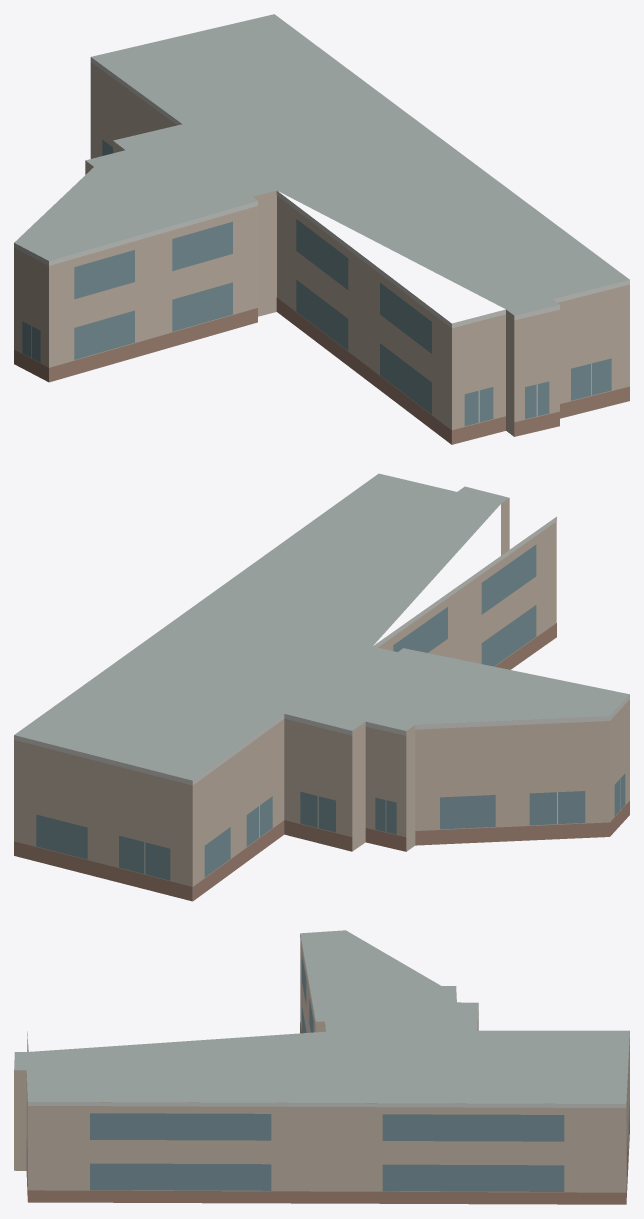
Rendered from survey-upis-32663550.glb.
The picture shows the model from 3 angles, top to bottom: view 1: azimuth 30°, elevation 25°; view 2: azimuth 150°, elevation 25°; view 3: azimuth 270°, elevation 25°; orthographic projection. The views are drawn at different scales.
Visible parts, largest first — view 1: survey-upis-32663550.tmp; view 2: survey-upis-32663550.tmp; view 3: survey-upis-32663550.tmp.
Part boxes in pixels (x1,y1,x2,y2): survey-upis-32663550.tmp: [14, 14, 629, 444]; survey-upis-32663550.tmp: [14, 473, 629, 901]; survey-upis-32663550.tmp: [14, 930, 629, 1204].
Bounding box in the file's own units: 22.61 × 6.1 × 33.85.
